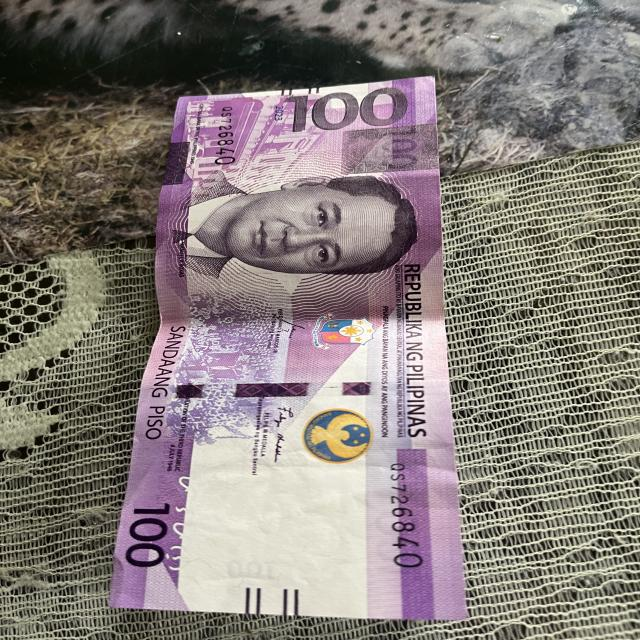concealed_value: (344, 123, 438, 176)
security_thread: (145, 380, 447, 401)
see_through_mark: (157, 468, 209, 589)
serial_number: (379, 455, 436, 572), (213, 101, 235, 169)
value: (272, 84, 420, 136)
value_watermark: (226, 557, 282, 584)
